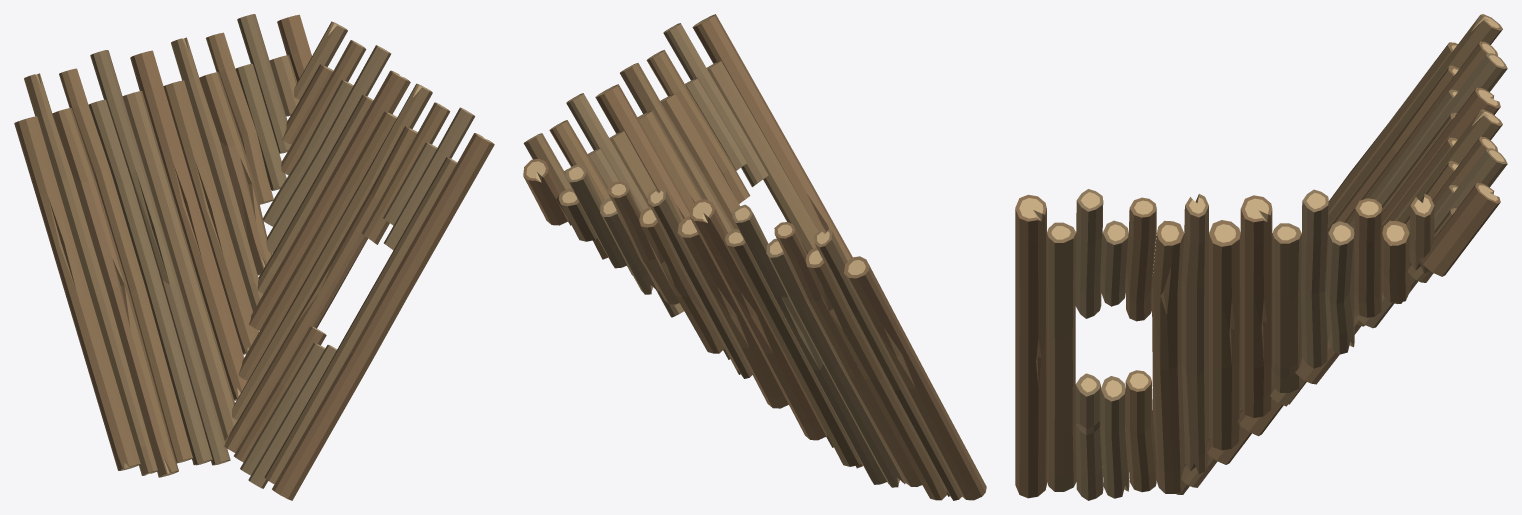
The model's file is rpgpp_ag_roof_01_6x5x3_corner_01_chimney_01.fbx.
The picture shows the model from 3 angles, left to right: view 1: azimuth 30°, elevation 25°; view 2: azimuth 150°, elevation 25°; view 3: azimuth 270°, elevation 25°; orthographic projection. The views are drawn at different scales.
Visible parts, largest first — view 1: rpgpp_ag_roof_01_6x5x3_corner_01_chimney_01; view 2: rpgpp_ag_roof_01_6x5x3_corner_01_chimney_01; view 3: rpgpp_ag_roof_01_6x5x3_corner_01_chimney_01.
Boxes of the visible parts, x1,y1,x2,y2 form: rpgpp_ag_roof_01_6x5x3_corner_01_chimney_01: (14, 14, 494, 500); rpgpp_ag_roof_01_6x5x3_corner_01_chimney_01: (523, 14, 986, 500); rpgpp_ag_roof_01_6x5x3_corner_01_chimney_01: (1015, 14, 1507, 500).
Size of the model in its own units: 6.55 by 6.46 by 6.55.
